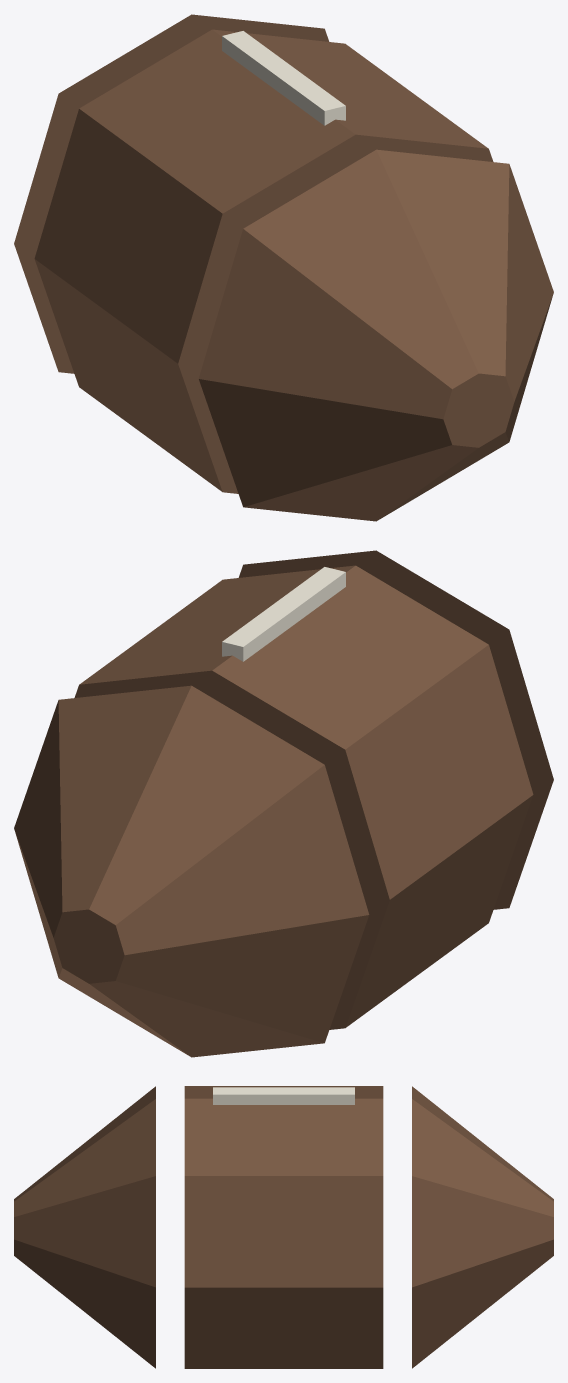
The model's file is GD_Football_01.glb.
3 views of the same model, one above another, from view 1: azimuth 30°, elevation 25°; view 2: azimuth 150°, elevation 25°; view 3: azimuth 270°, elevation 25° (orthographic). The views are drawn at different scales.
Parts seen in each view (by area): view 1: GD_Football_01; view 2: GD_Football_01; view 3: GD_Football_01.
Boxes of the visible parts, x1,y1,x2,y2 form: GD_Football_01: [14, 14, 553, 521]; GD_Football_01: [14, 550, 553, 1057]; GD_Football_01: [14, 1086, 553, 1368].
Bounding box in the file's own units: 0.2 × 0.206 × 0.38.
1 material, 1 textured.
